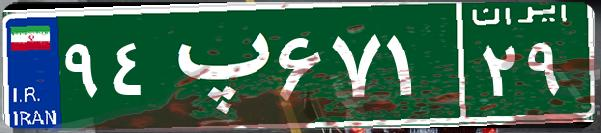1: (385, 28, 445, 110)
2: (475, 38, 525, 113)
4: (110, 28, 158, 105)
6: (273, 28, 330, 110)
7: (330, 28, 385, 110)
9: (57, 26, 110, 107), (525, 38, 570, 115)
پ: (158, 15, 273, 115)
